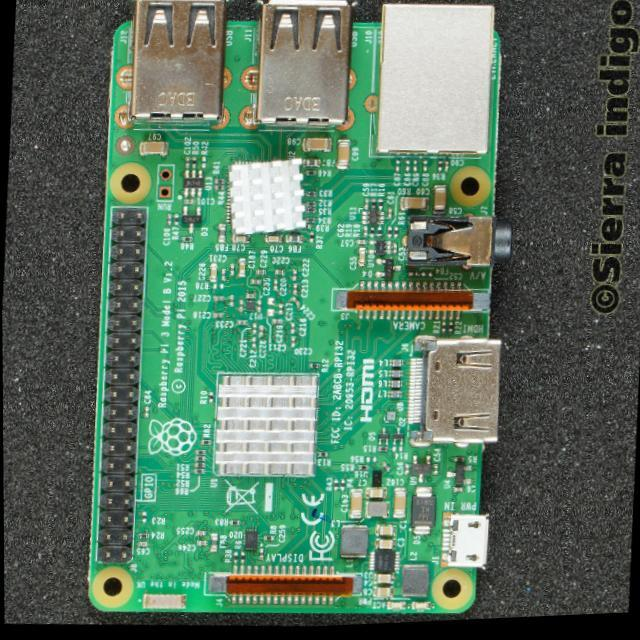Raspberry-Pi-3-B: (89, 1, 510, 614)
